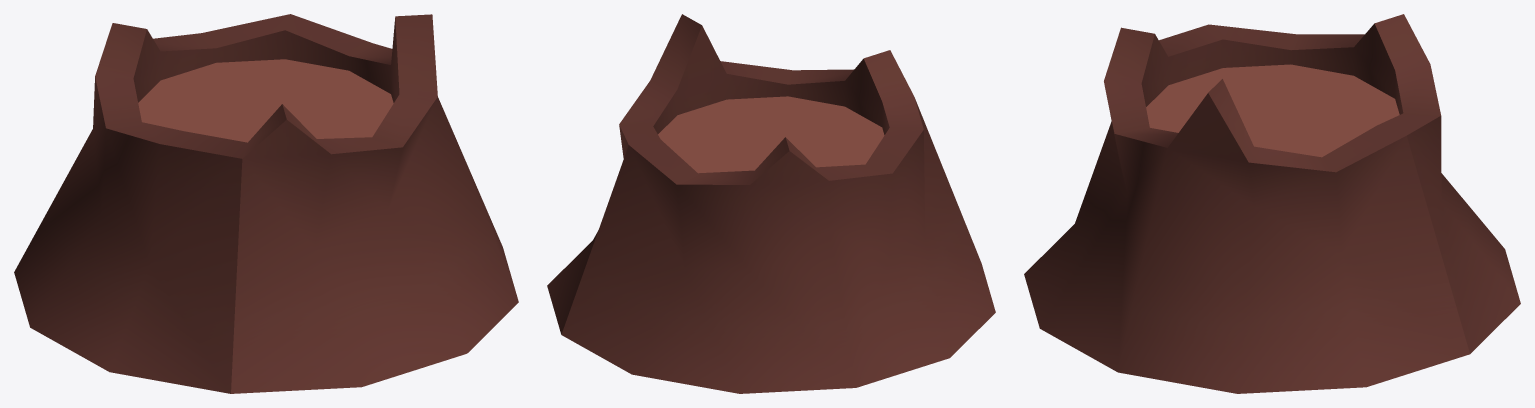
Rendered from Stump.005.fbx.
3 renders of one model, left to right at view 1: azimuth 30°, elevation 25°; view 2: azimuth 150°, elevation 25°; view 3: azimuth 270°, elevation 25°, orthographic. The views are drawn at different scales.
Parts seen in each view (by area): view 1: Stump.005; view 2: Stump.005; view 3: Stump.005.
Boxes of the visible parts, x1,y1,x2,y2 form: Stump.005: [14, 14, 518, 393]; Stump.005: [547, 14, 995, 393]; Stump.005: [1024, 14, 1520, 393].
Bounding box in the file's own units: 96.87 × 55.97 × 96.87.
